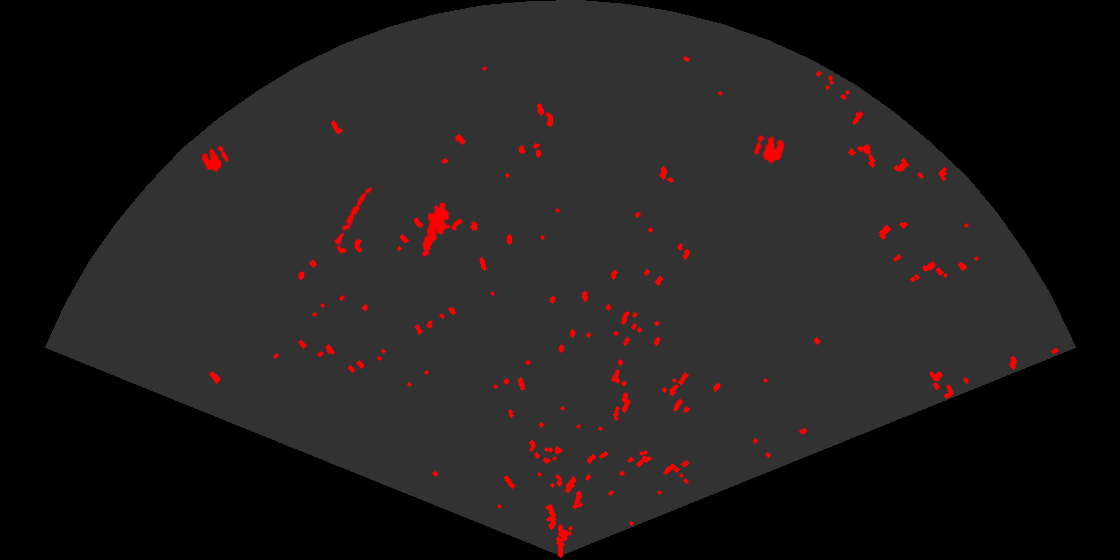ball: (752, 133, 786, 165), (200, 144, 230, 173)
chain: (332, 177, 376, 248)
frogman: (421, 203, 453, 258)
